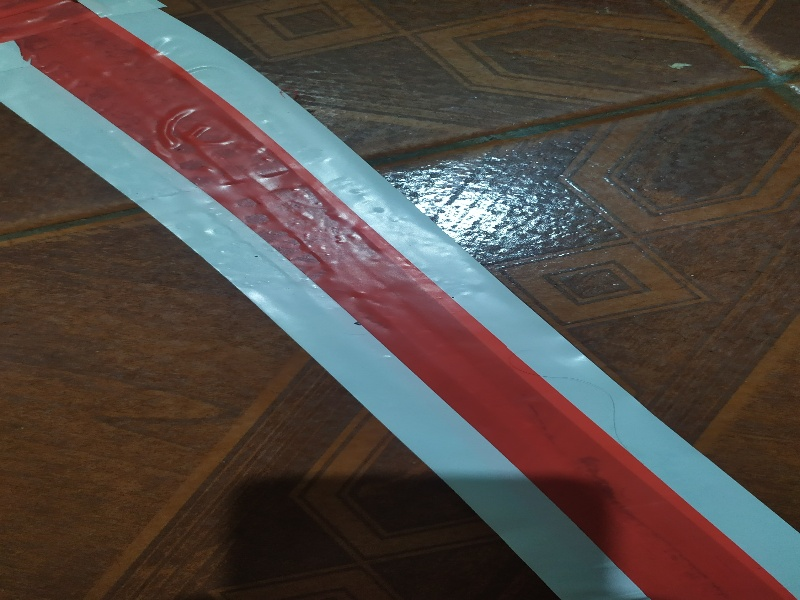saindoDireita: (3, 1, 800, 589)
